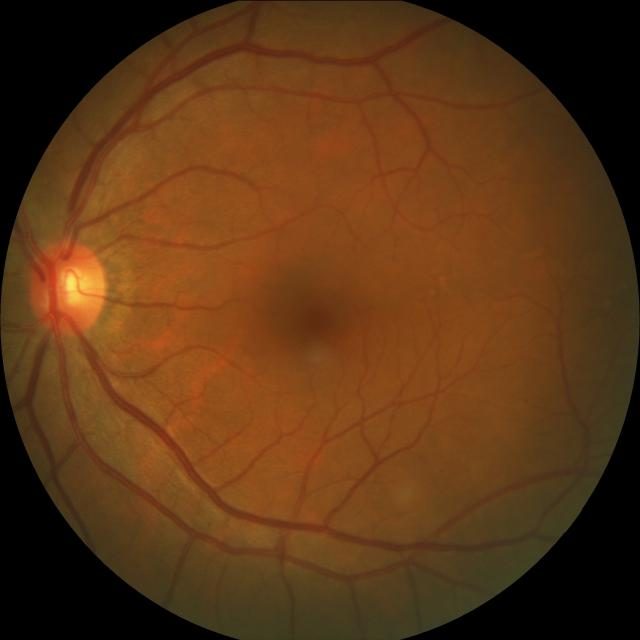OC: (43, 257, 89, 313)
OD: (25, 237, 106, 338)
